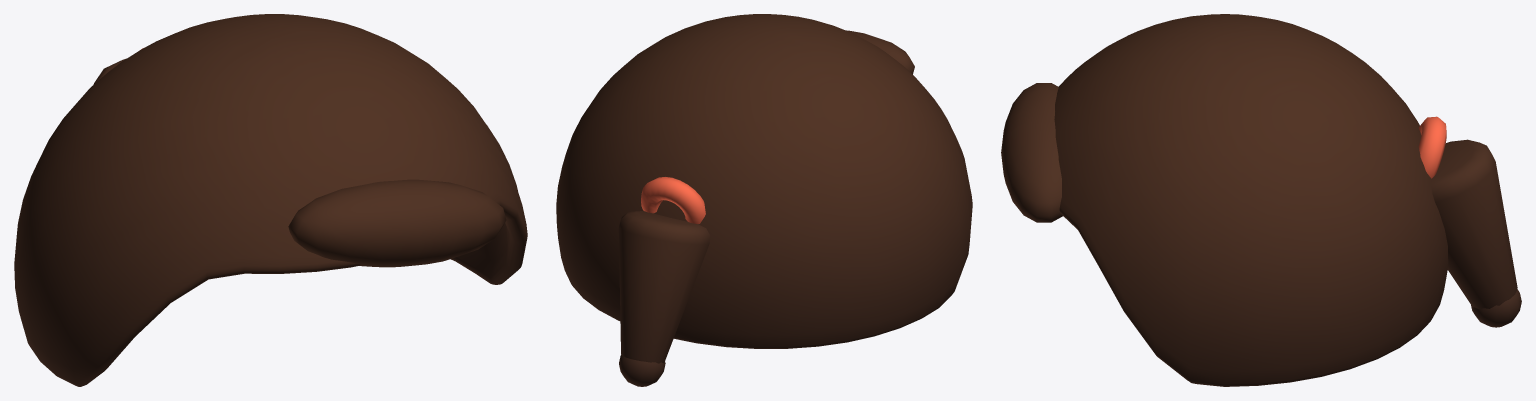
The model's file is hair_ponytail.glb.
3 renders of one model, left to right at view 1: azimuth 30°, elevation 25°; view 2: azimuth 150°, elevation 25°; view 3: azimuth 270°, elevation 25°, orthographic. The views are drawn at different scales.
Visible parts, largest first — view 1: Hair; view 2: Hair, HairTail; view 3: Hair, HairTail.
Boxes of the visible parts, x1,y1,x2,y2 form: Hair: [14, 14, 527, 386]; Hair: [556, 14, 972, 348]; HairTail: [618, 211, 710, 386]; Hair: [1001, 14, 1448, 386]; HairTail: [1431, 139, 1521, 327].
Bounding box in the file's own units: 2.16 × 1.48 × 2.42.
